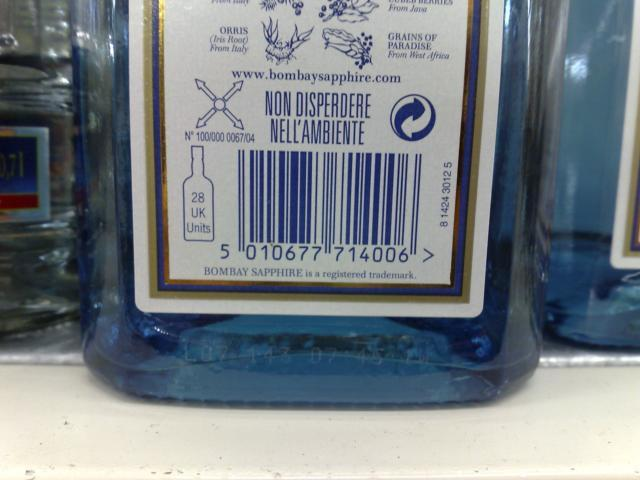Barcode: (214, 144, 437, 269)
